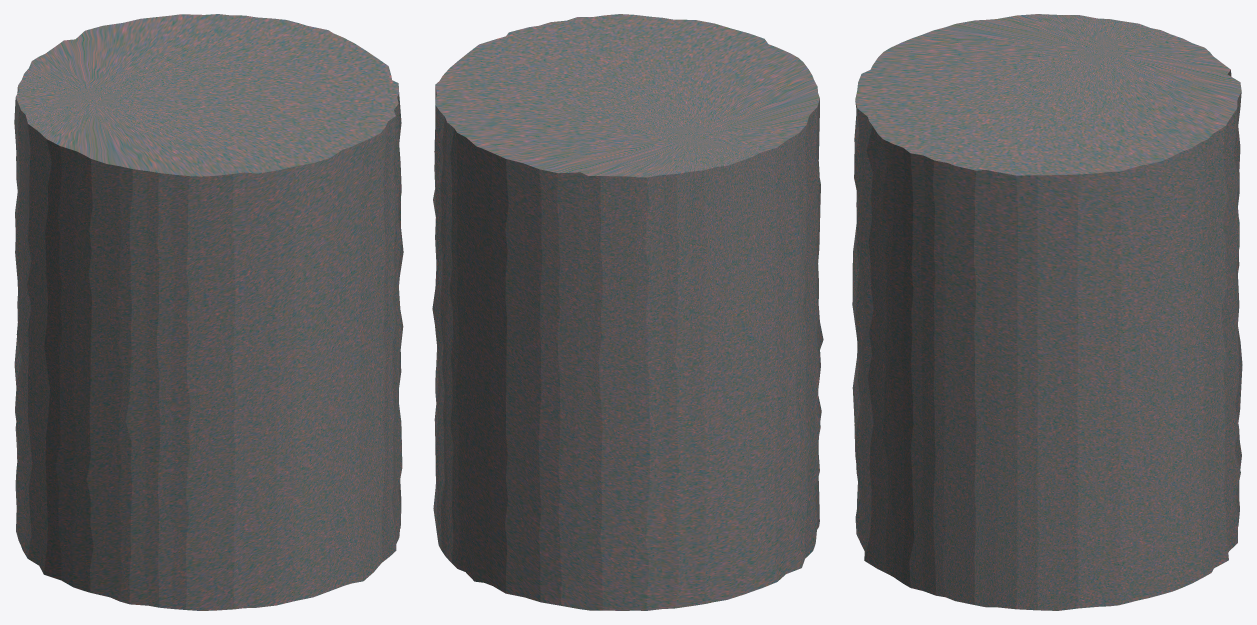
File: barrel_27.dae
3 views of the same model, side by side, from view 1: azimuth 30°, elevation 25°; view 2: azimuth 150°, elevation 25°; view 3: azimuth 270°, elevation 25° (orthographic).
Parts seen in each view (by area): view 1: Cylinder; view 2: Cylinder; view 3: Cylinder.
Part boxes in pixels (box(x1,y1,x2,y2)): Cylinder: box(14, 14, 403, 610); Cylinder: box(432, 14, 823, 610); Cylinder: box(852, 14, 1242, 610).
Size of the model in its own units: 0.8199 by 0.8135 by 1.
Materials: 1 (1 with a texture image).
